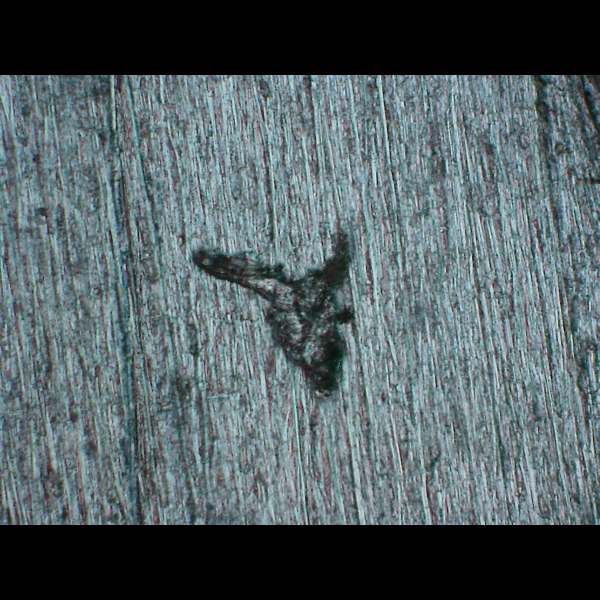d: (183, 222, 362, 401)
